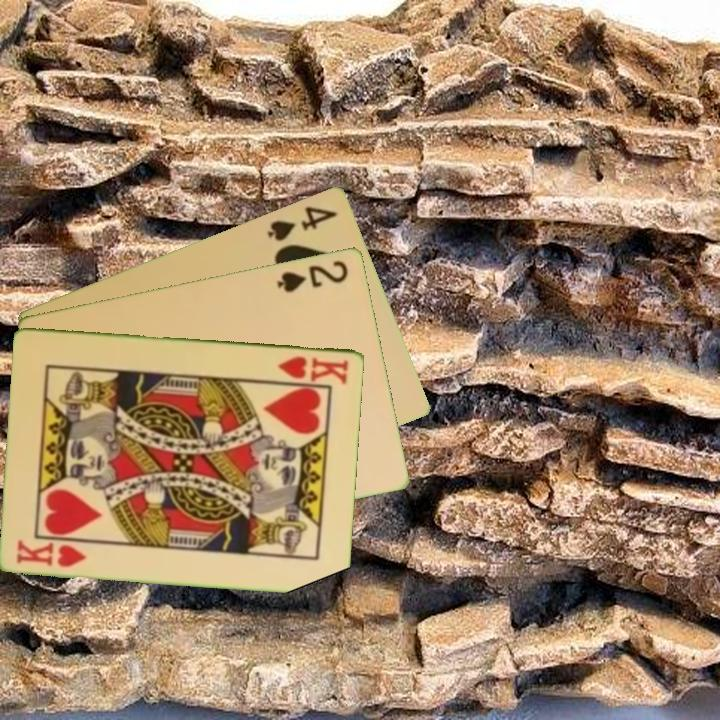2s: (273, 256, 352, 295)
4s: (263, 201, 341, 244)
Kh: (275, 352, 352, 386), (13, 536, 90, 570)
